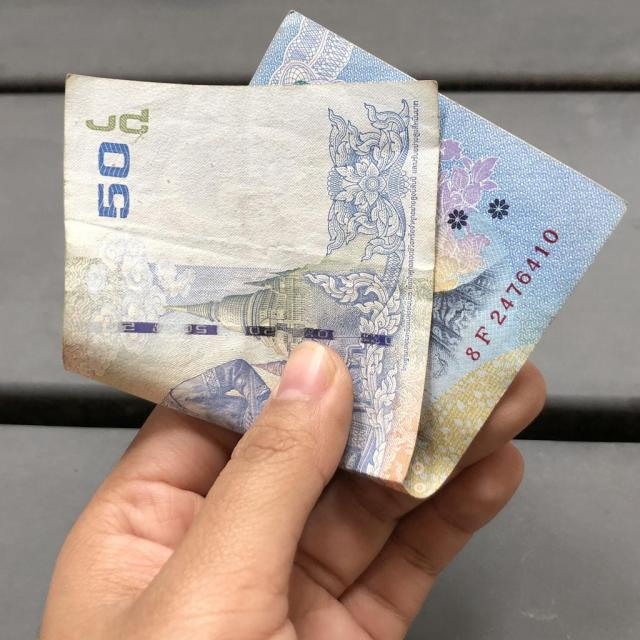THAI50: (62, 12, 624, 498)
